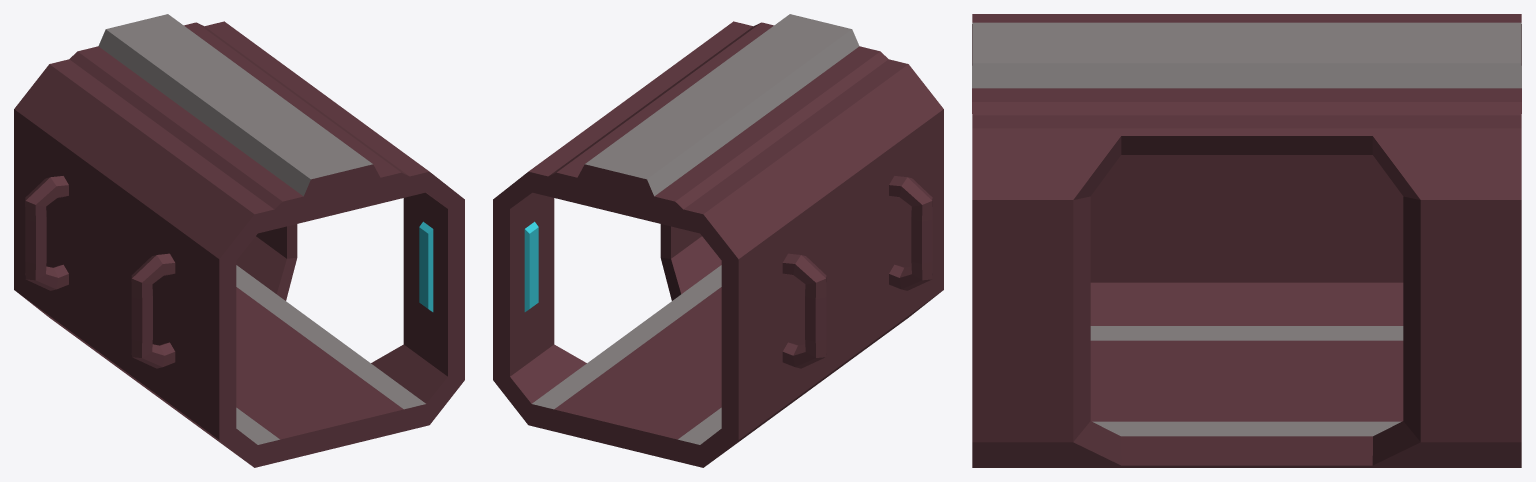
File: scifi-planet-base-hall-one-middle.fbx
3 views of the same model, side by side, from view 1: azimuth 30°, elevation 25°; view 2: azimuth 150°, elevation 25°; view 3: azimuth 270°, elevation 25° (orthographic). The views are drawn at different scales.
Visible parts, largest first — view 1: scifi-planet-base-hall-one-middle; view 2: scifi-planet-base-hall-one-middle; view 3: scifi-planet-base-hall-one-middle.
Boxes of the visible parts, x1,y1,x2,y2 form: scifi-planet-base-hall-one-middle: [14, 14, 464, 467]; scifi-planet-base-hall-one-middle: [493, 14, 943, 467]; scifi-planet-base-hall-one-middle: [972, 14, 1521, 467].
Size of the model in its own units: 3.19 by 2.95 by 4.
